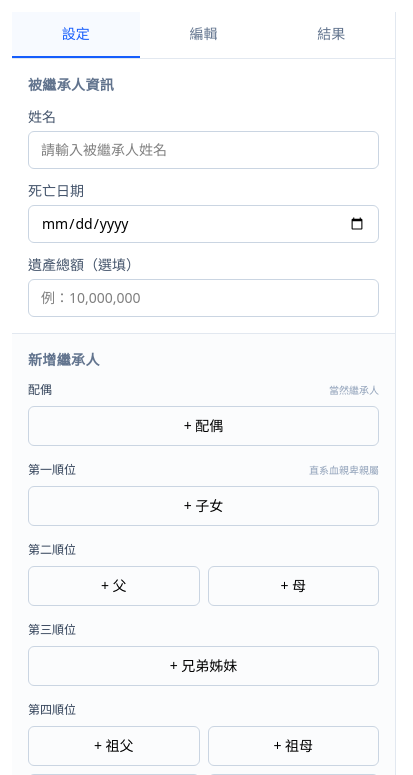
Scenario: PersonEditor › checking 已婚 checkbox disables the marriage date input
Click the button "+ 子女": (204, 506) [28, 486, 379, 526]
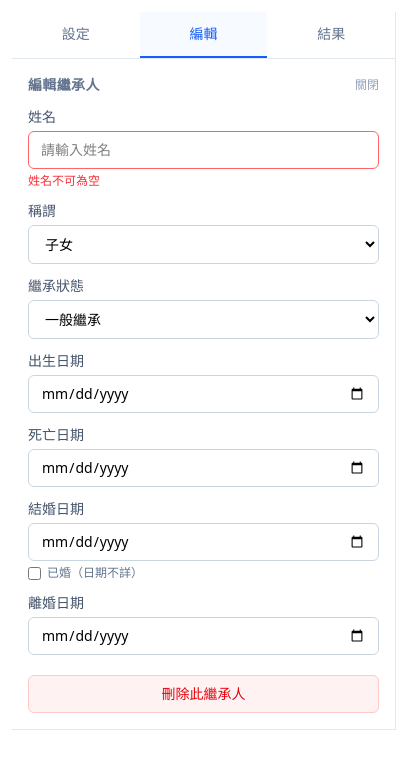
Expected: the date field labelled "結婚日期" is enabled, [28, 523, 379, 561]
Click the checkbox labelled "已婚（日期不詳）": (34, 573) [28, 566, 41, 580]
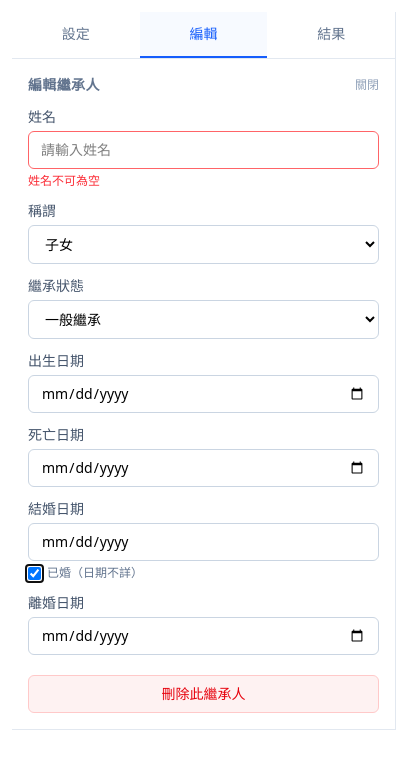
Expected: the date field labelled "結婚日期" is disabled, [28, 523, 379, 561]
